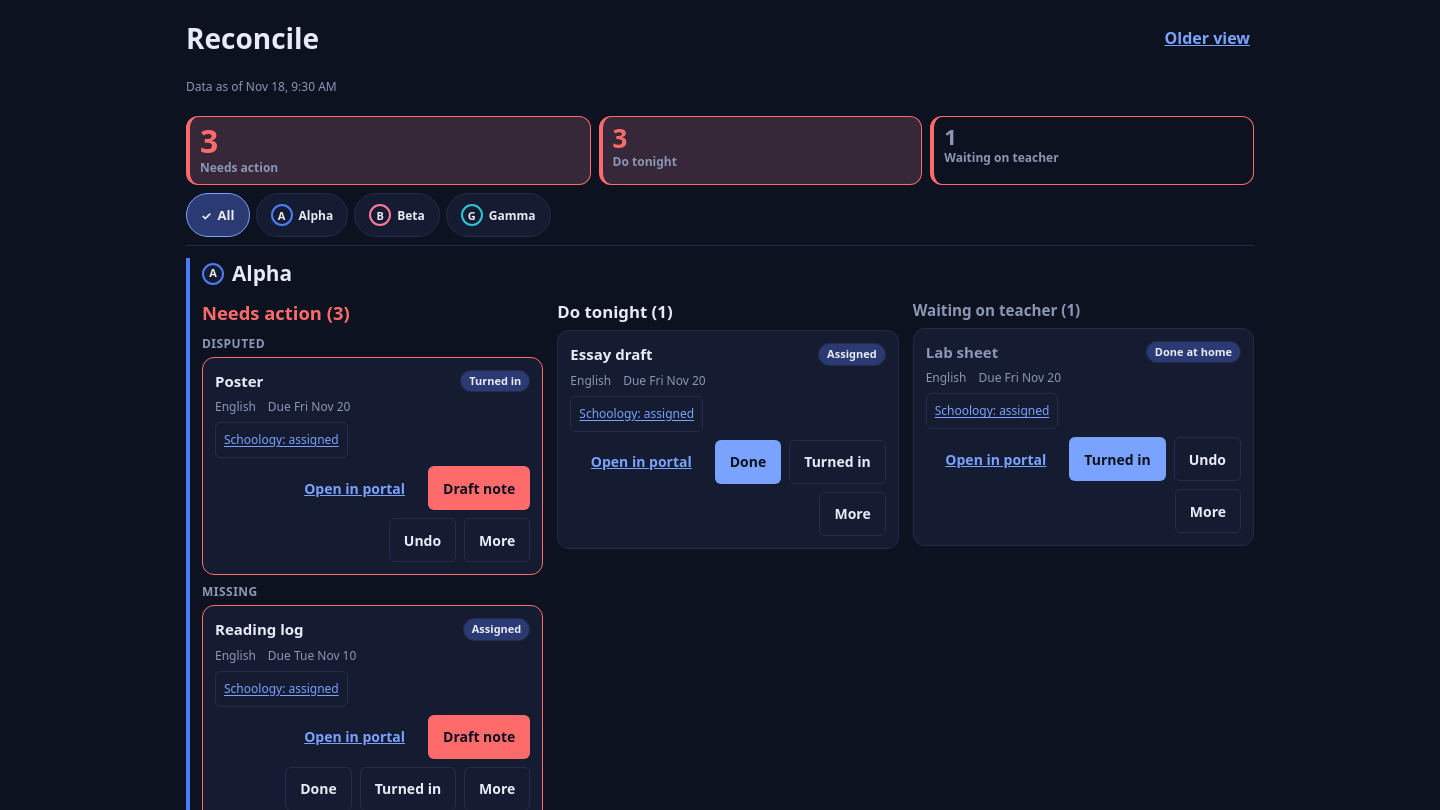
it: note sheet shows subject and body read-only, with the fixed line and no send control
expect the heading "Alpha" is shown: met, box [232,258,292,289]
Click the button with aria-label "Draft note for Poster (English, Alpha)".
click(479, 488)  # box [428,466,530,510]
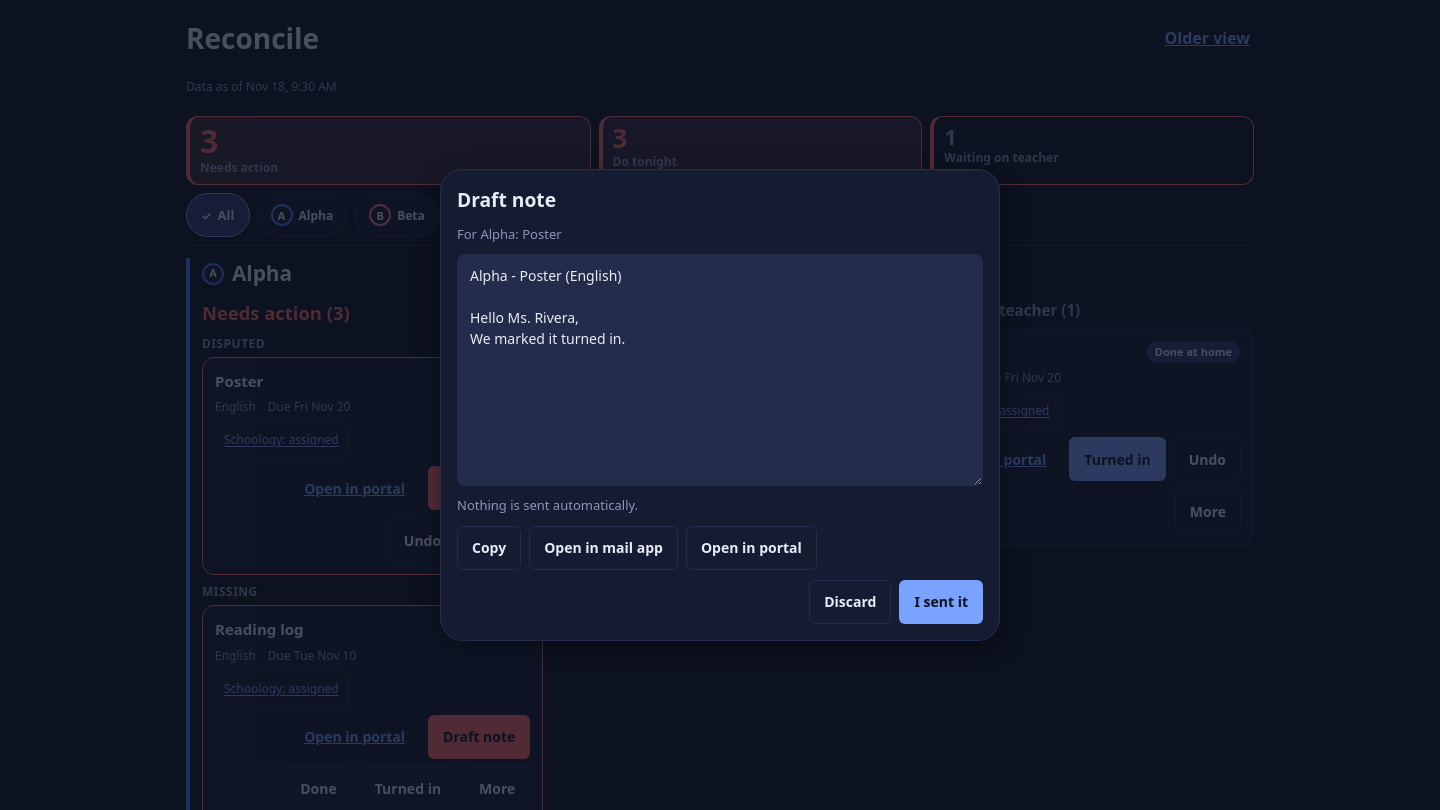
expect the text "Nothing is sent automatically." is shown: met, box [457,496,638,514]
expect the button "Copy" is shown: met, box [457,526,521,570]
expect the button "I sent it" is shown: met, box [899,580,983,624]
